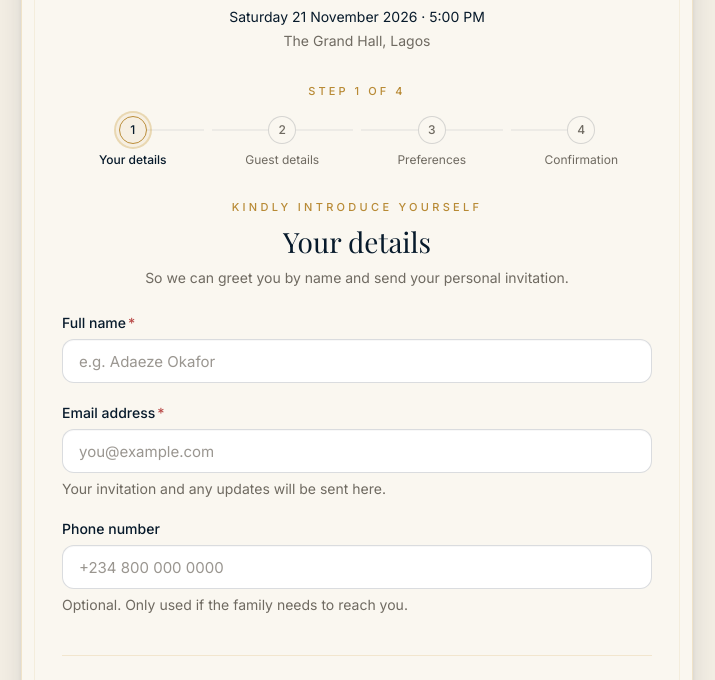
RsvpPage › does not advance from step 1 with an invalid email
(page scrolled)
Type "Ada Obi" into the field labelled "Full name*" at (357, 361), box [62,339,652,383]
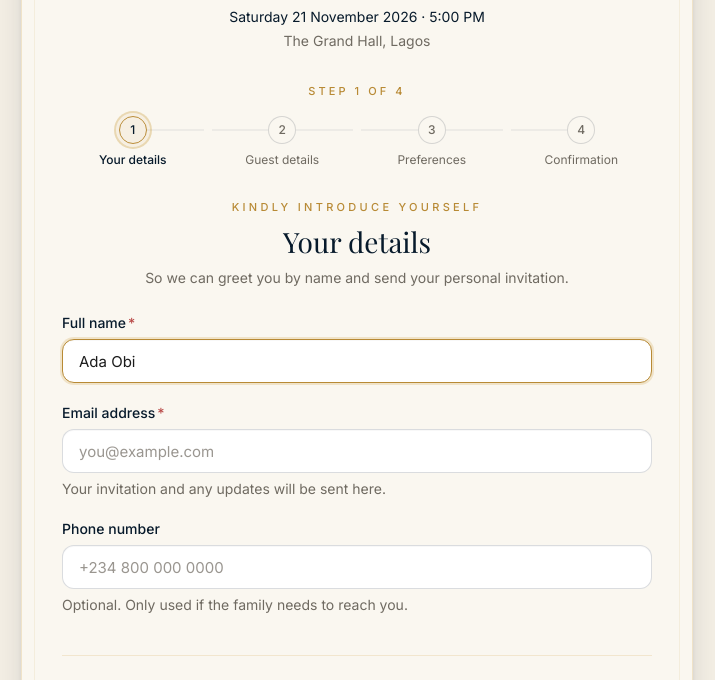
Type "not-an-email" into the field labelled "Email address*" at (357, 451), box [62,429,652,473]
(page scrolled)
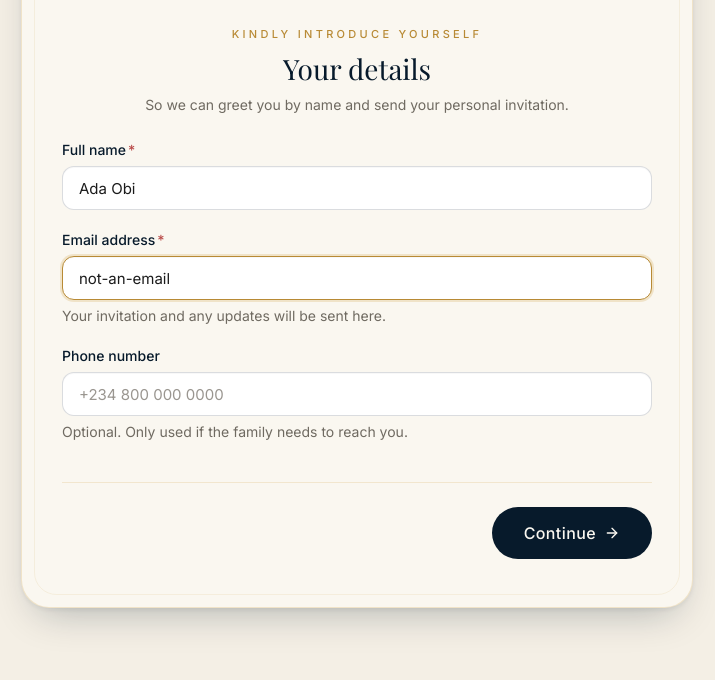
Click the button "Continue" at (572, 533), box [492,507,652,559]
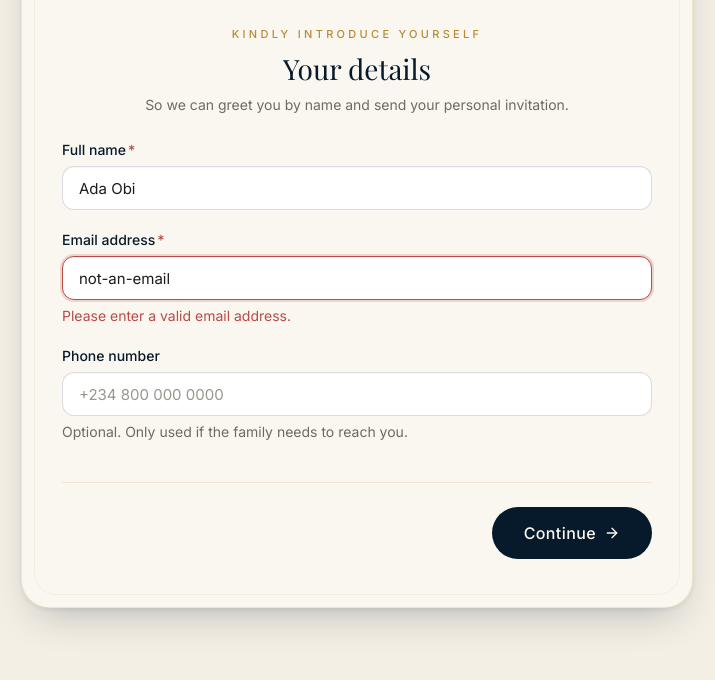
Expected: the heading "Your details" is shown, [283,49,431,86]
Result: the text "Please enter a valid email address." is shown at [62,307,291,324]
